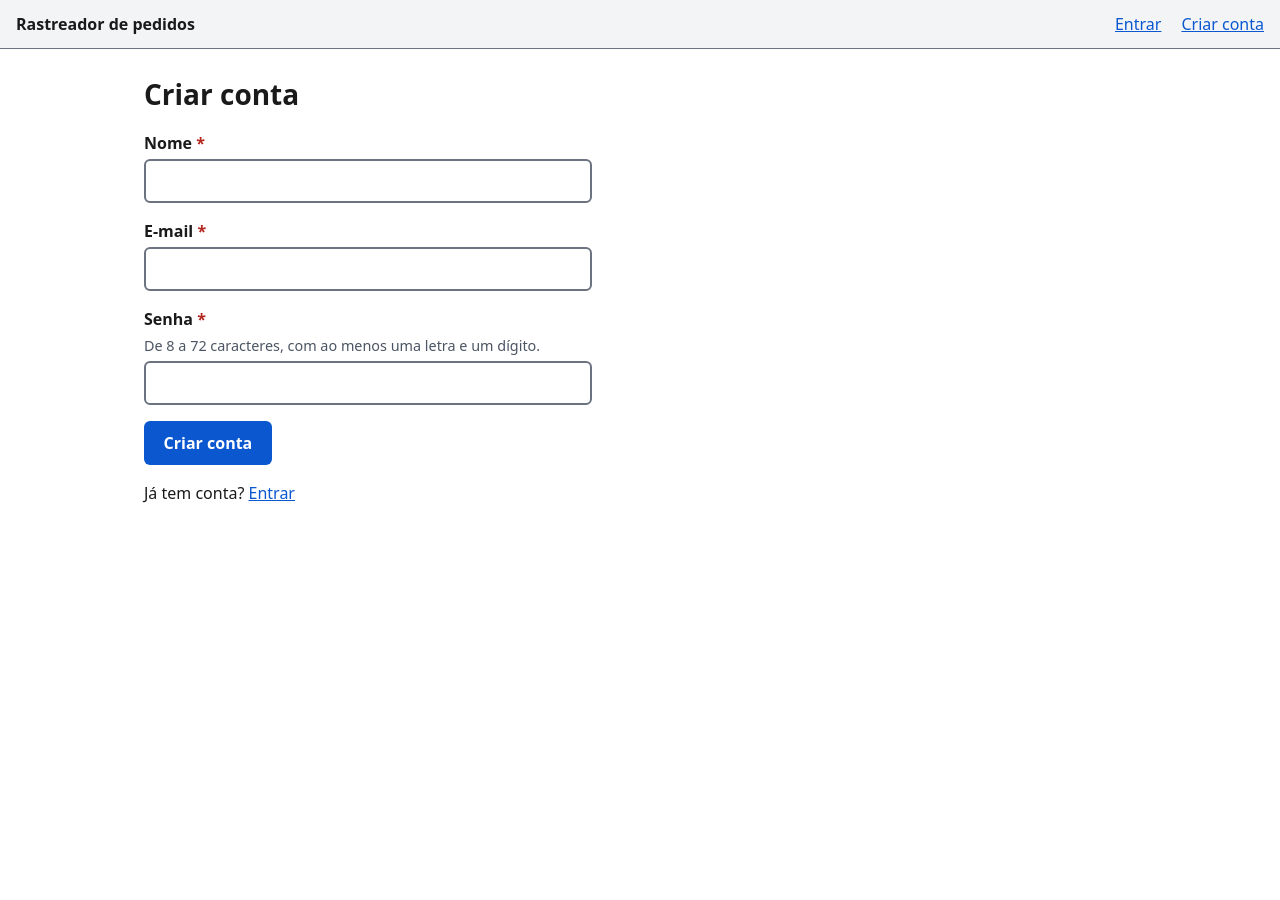
Test: RegisterPage › envio vazio lista nome, e-mail e senha no resumo focado
This screenshot has width=1280, height=900.
expect the heading "Criar conta" is shown: met, box [144,75,299,113]
Click the button "Criar conta" at [208, 443], box [144,421,272,465]
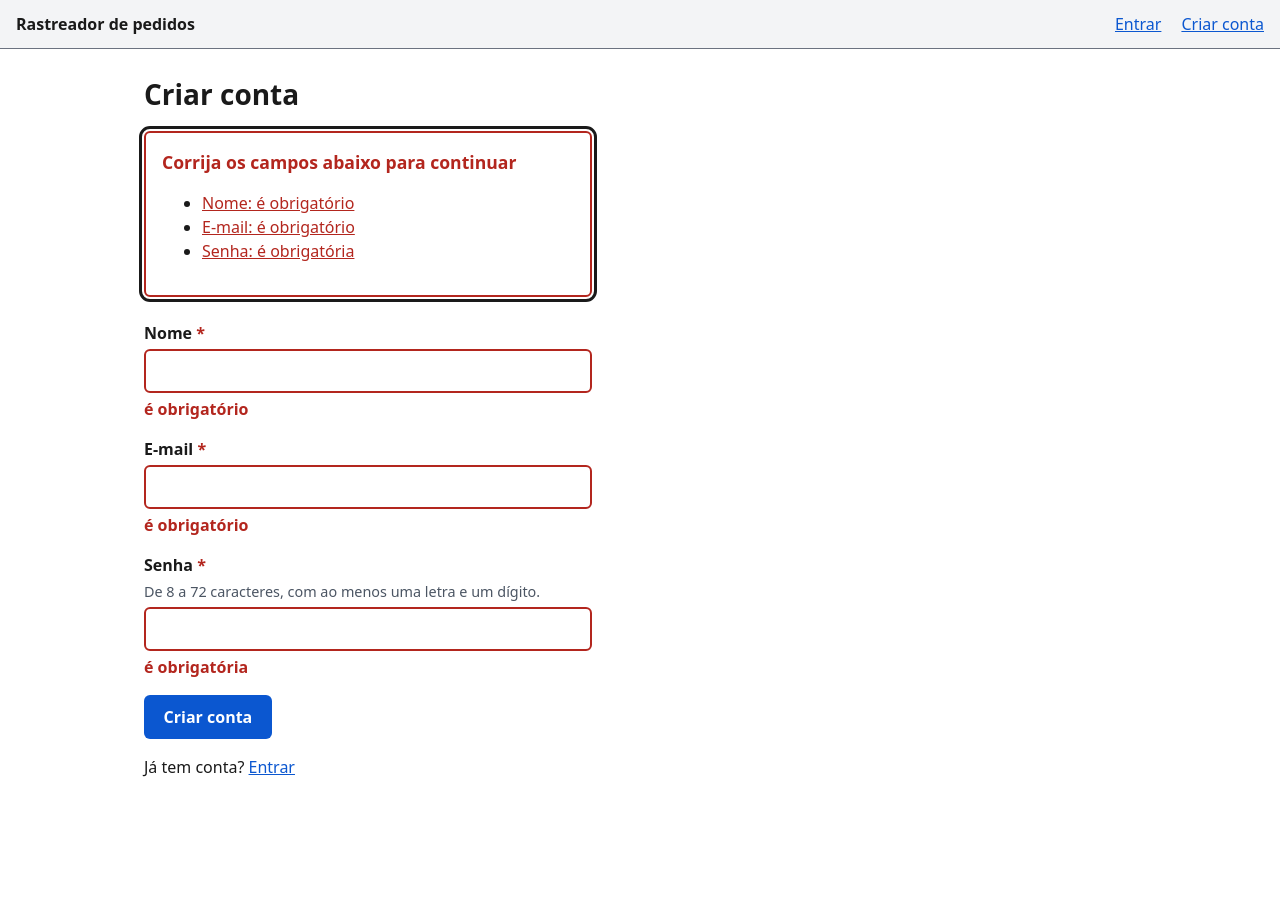
expect the message shows "Nome: é obrigatório": met, box [202,192,354,214]
expect the message shows "E-mail: é obrigatório": met, box [202,216,355,238]
expect the message shows "Senha: é obrigatória": met, box [202,240,354,262]
